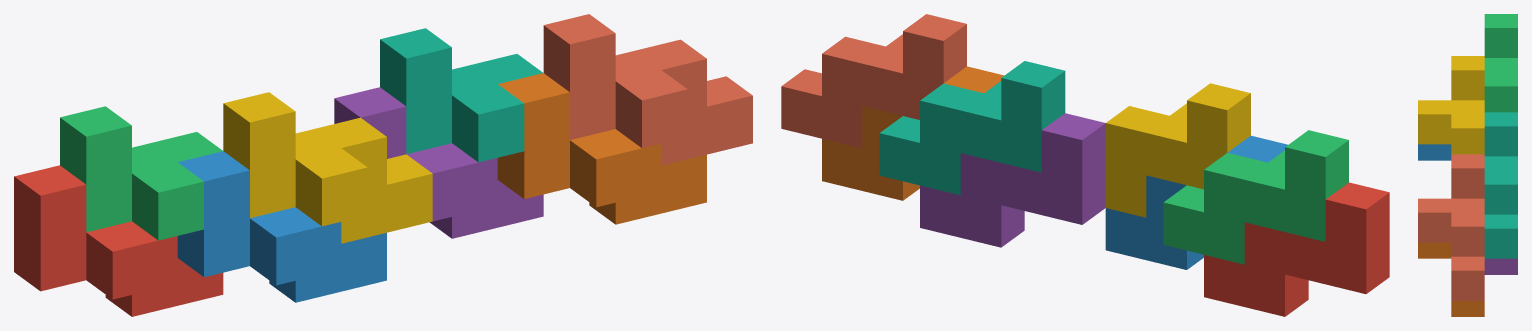
File: tiling.obj
3 renders of one model, left to right at view 1: azimuth 30°, elevation 25°; view 2: azimuth 150°, elevation 25°; view 3: azimuth 270°, elevation 25°, orthographic. The views are drawn at different scales.
Visible parts, largest first — view 1: copy_1_domain_8, copy_1_domain_4, copy_1_domain_1, copy_1_domain_2, copy_1_domain_6, copy_1_domain_7, copy_1_domain_3, copy_1_domain_5; view 2: copy_1_domain_7, copy_1_domain_3, copy_1_domain_5, copy_1_domain_1, copy_1_domain_8, copy_1_domain_4, copy_1_domain_2, copy_1_domain_6; view 3: copy_1_domain_8, copy_1_domain_7, copy_1_domain_4, copy_1_domain_3, copy_1_domain_6, copy_1_domain_2, copy_1_domain_5.
Part boxes in pixels (x1=…): copy_1_domain_8: x1=543, y1=14, x2=752, y2=165; copy_1_domain_4: x1=223, y1=92, x2=432, y2=243; copy_1_domain_1: x1=14, y1=165, x2=223, y2=316; copy_1_domain_2: x1=177, y1=151, x2=386, y2=302; copy_1_domain_6: x1=497, y1=73, x2=706, y2=224; copy_1_domain_7: x1=380, y1=28, x2=542, y2=162; copy_1_domain_3: x1=60, y1=106, x2=222, y2=240; copy_1_domain_5: x1=334, y1=87, x2=543, y2=238; copy_1_domain_7: x1=879, y1=61, x2=1065, y2=195; copy_1_domain_3: x1=1163, y1=130, x2=1348, y2=264; copy_1_domain_5: x1=920, y1=113, x2=1105, y2=247; copy_1_domain_1: x1=1204, y1=182, x2=1389, y2=316; copy_1_domain_8: x1=781, y1=14, x2=966, y2=148; copy_1_domain_4: x1=1105, y1=83, x2=1250, y2=217; copy_1_domain_2: x1=1105, y1=135, x2=1287, y2=269; copy_1_domain_6: x1=822, y1=66, x2=1004, y2=200; copy_1_domain_8: x1=1418, y1=154, x2=1484, y2=300; copy_1_domain_7: x1=1484, y1=112, x2=1517, y2=258; copy_1_domain_4: x1=1418, y1=56, x2=1484, y2=154; copy_1_domain_3: x1=1484, y1=14, x2=1517, y2=112; copy_1_domain_6: x1=1418, y1=242, x2=1484, y2=316; copy_1_domain_2: x1=1418, y1=144, x2=1451, y2=160; copy_1_domain_5: x1=1484, y1=258, x2=1517, y2=274.
Bounding box in the file's own units: 15 × 4 × 3.
